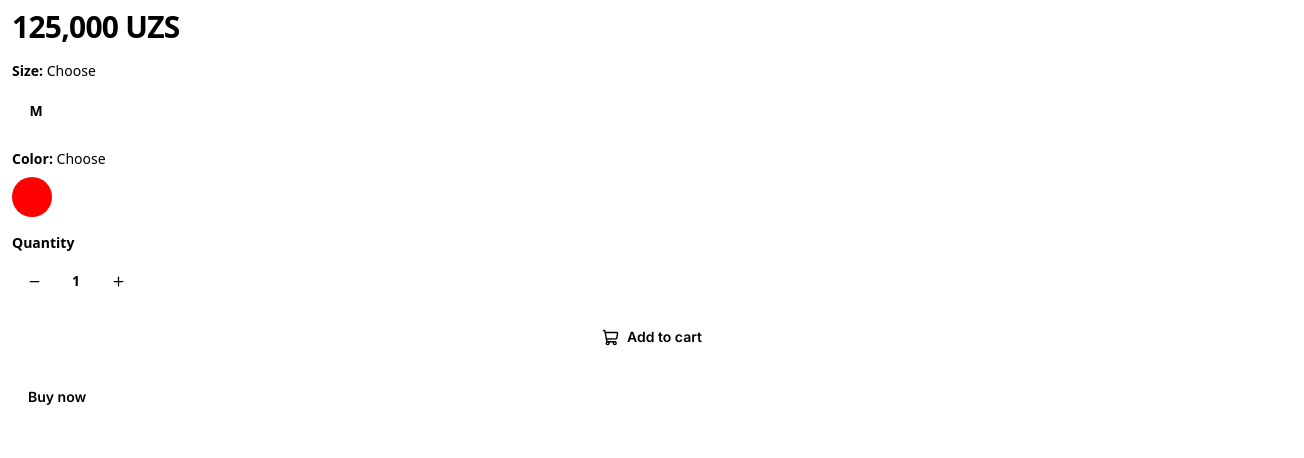
Test: AddToCart availability › still requires an explicit click when a product has only one color
Check: the button "Add to cart" is disabled, box [12,315,1292,359]
Click the button named "Size: M, Available to order".
click(36, 111)  # box [12,89,60,133]
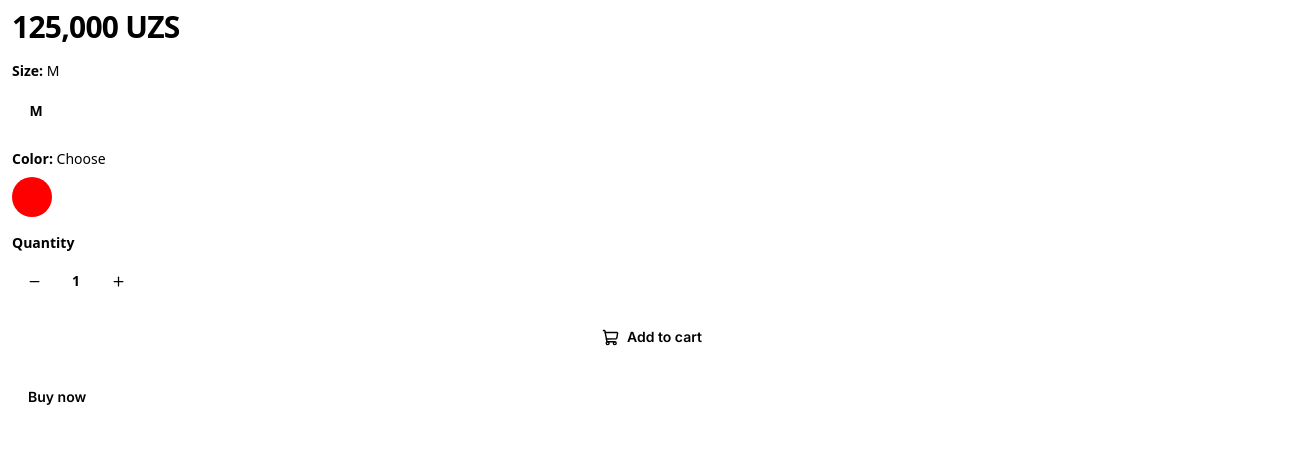
Check: the button "Add to cart" is disabled, box [12,315,1292,359]
Click the button named "Color: Red, Available to order".
click(32, 197)  # box [12,177,52,217]
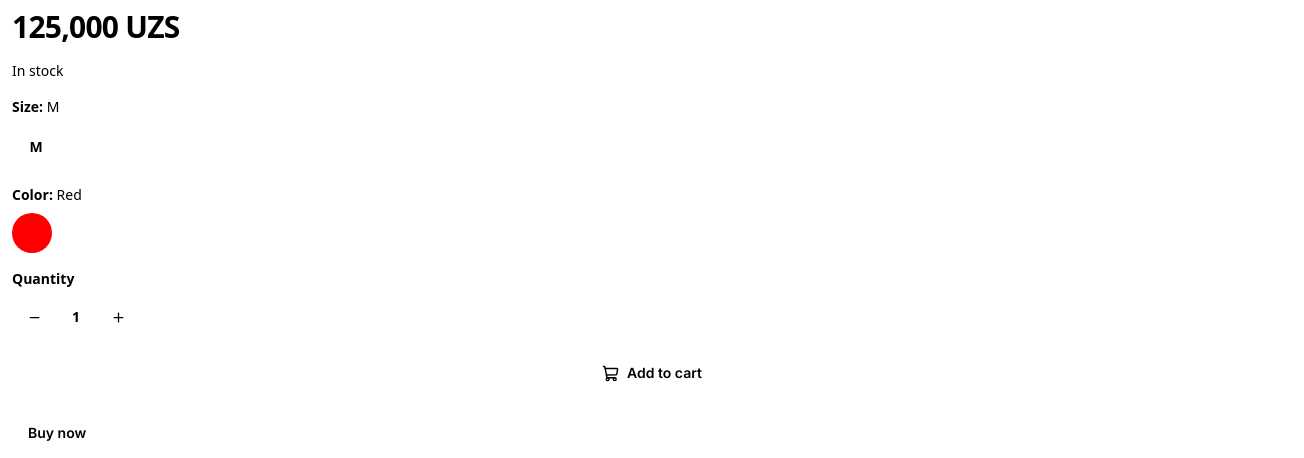
Check: the button "Add to cart" is enabled, box [12,351,1292,395]
